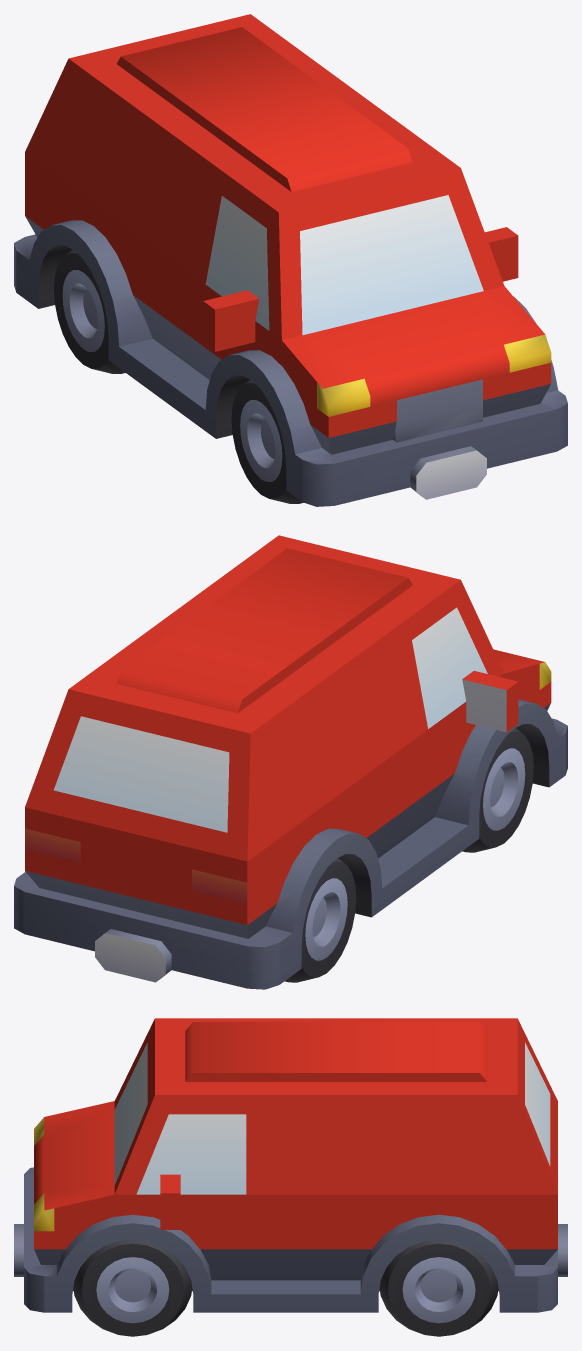
Rendered from van1.glb.
The picture shows the model from 3 angles, top to bottom: view 1: azimuth 30°, elevation 25°; view 2: azimuth 150°, elevation 25°; view 3: azimuth 270°, elevation 25°; orthographic projection. The views are drawn at different scales.
Parts seen in each view (by area): view 1: body.001, body, wheel-front-right, wheel-back-right; view 2: body.001, body, wheel-back-right, wheel-front-right; view 3: body.001, body, wheel-front-left, wheel-back-left.
Part boxes in pixels (x1,y1,x2,y2): body.001: [25, 14, 551, 437]; body: [14, 195, 567, 506]; wheel-front-right: [231, 379, 303, 503]; wheel-back-right: [54, 249, 125, 373]; body.001: [25, 535, 551, 924]; body: [14, 607, 567, 989]; wheel-back-right: [285, 858, 356, 982]; wheel-front-right: [462, 728, 533, 852]; body.001: [34, 1018, 557, 1249]; body: [14, 1042, 567, 1312]; wheel-front-left: [73, 1239, 192, 1336]; wheel-back-left: [379, 1239, 498, 1336].
Size of the model in its own units: 1.5 by 1.35 by 2.75.
2 materials, 1 textured.
